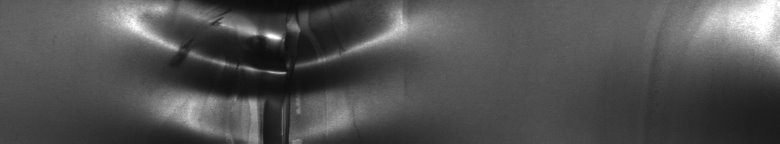ke: (136, 4, 402, 136)
